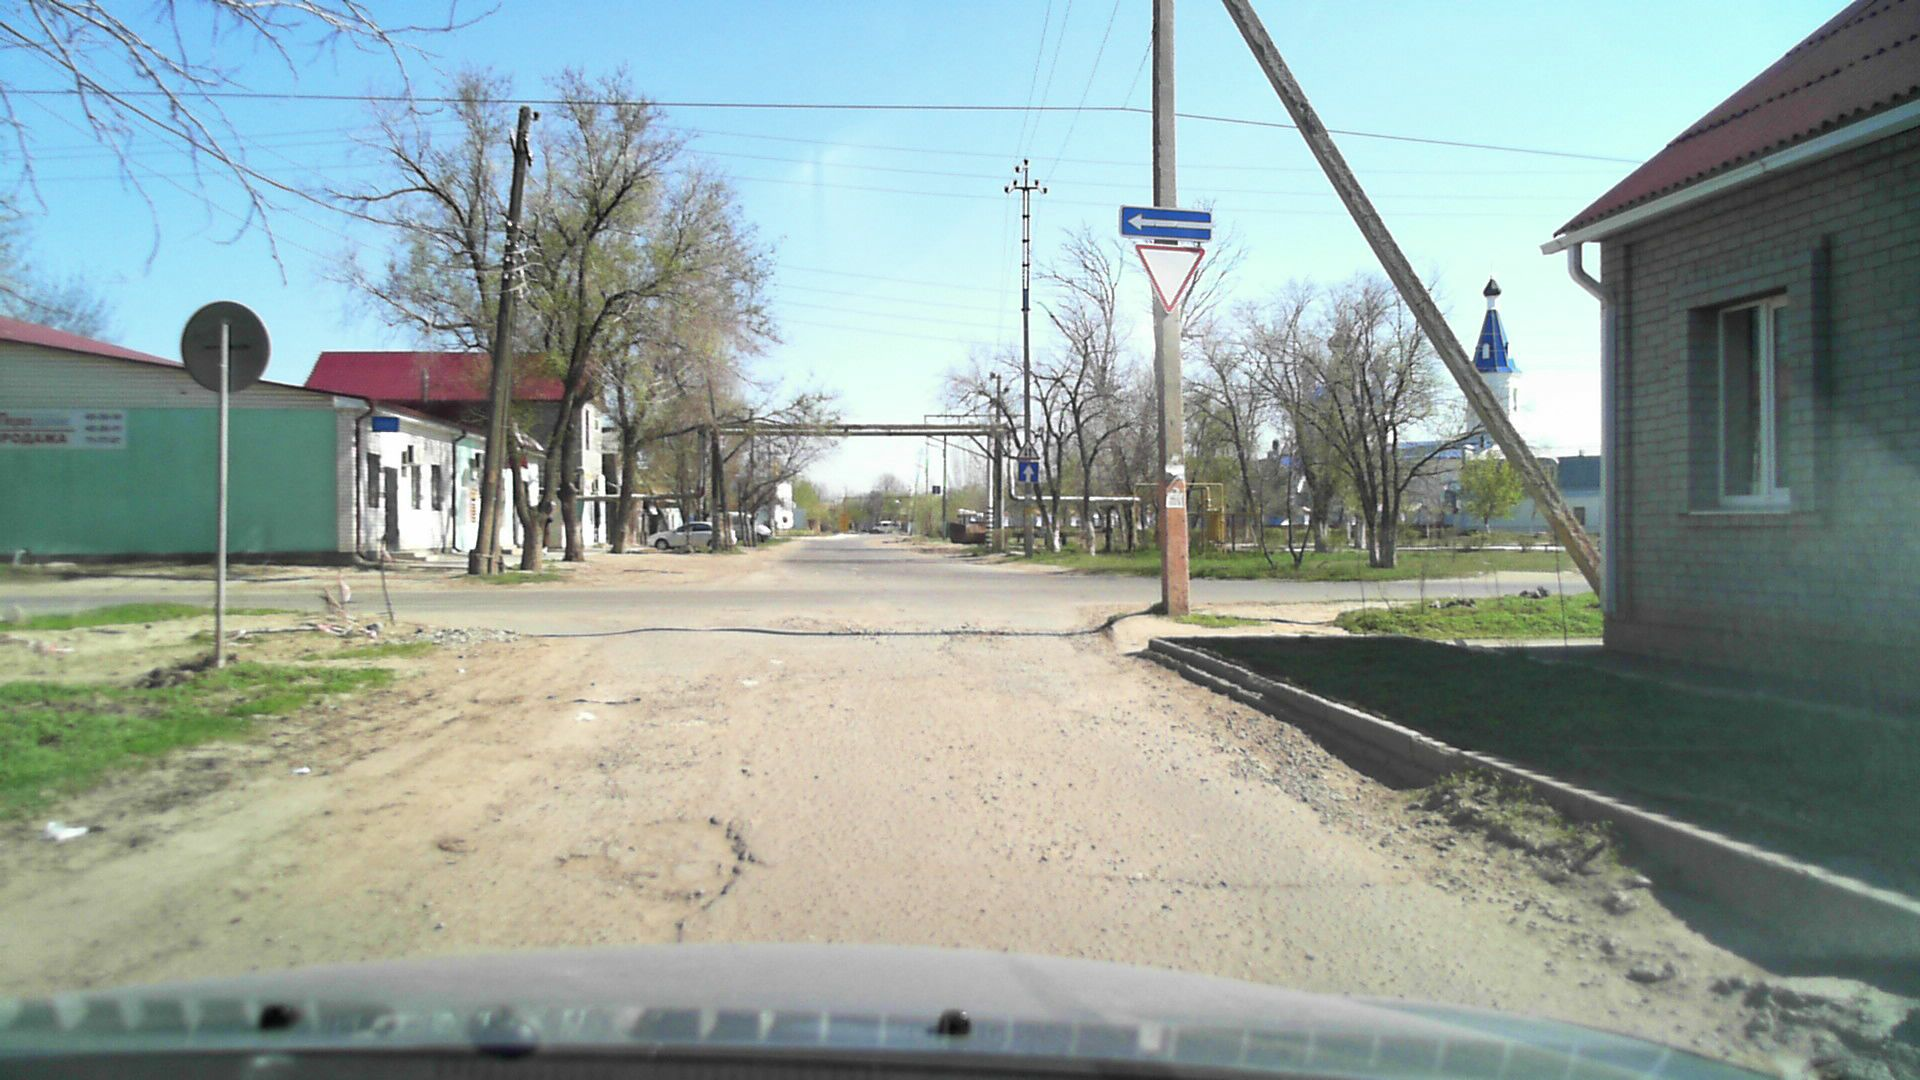One-Way Traffic: (1120, 204, 1211, 240)
